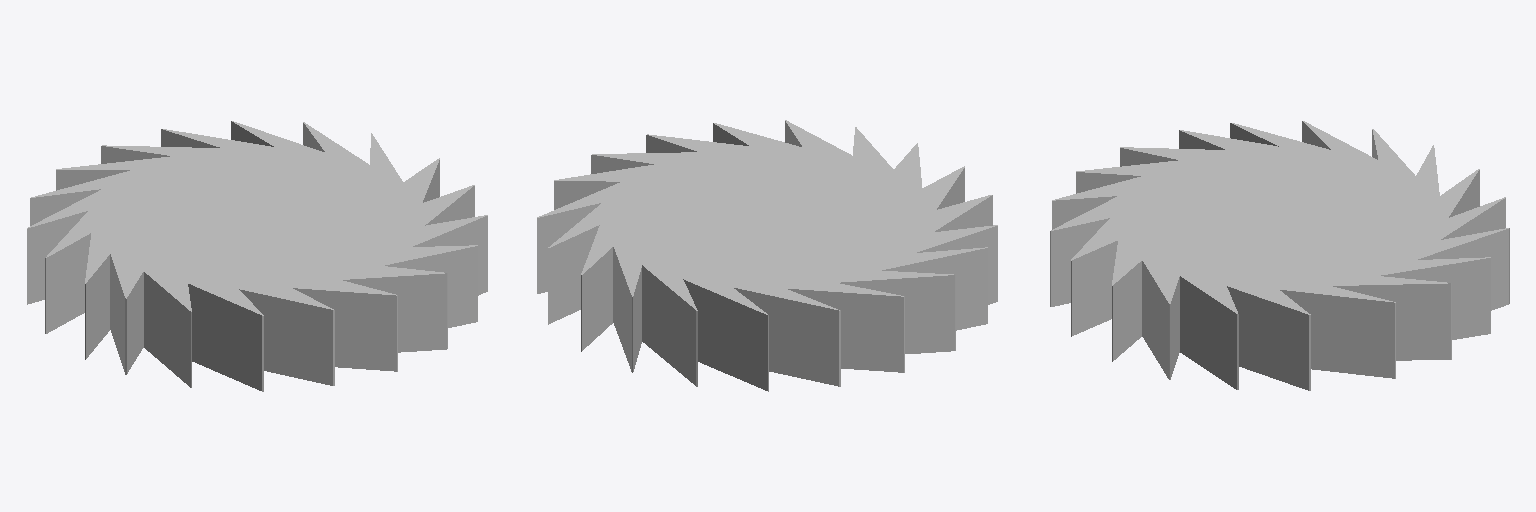
Rendered from sawblade.obj.
3 renders of one model, left to right at view 1: azimuth 30°, elevation 25°; view 2: azimuth 150°, elevation 25°; view 3: azimuth 270°, elevation 25°, orthographic.
Size of the model in its own units: 2.71 by 0.497 by 2.71.